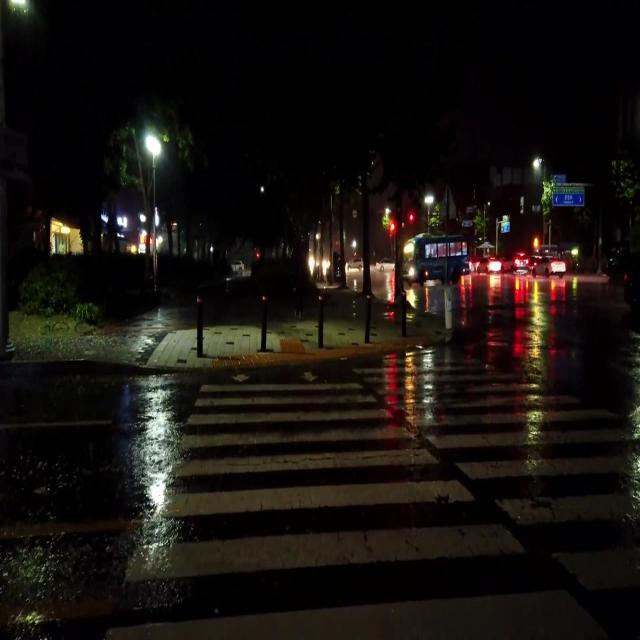Car: (532, 254, 565, 274)
